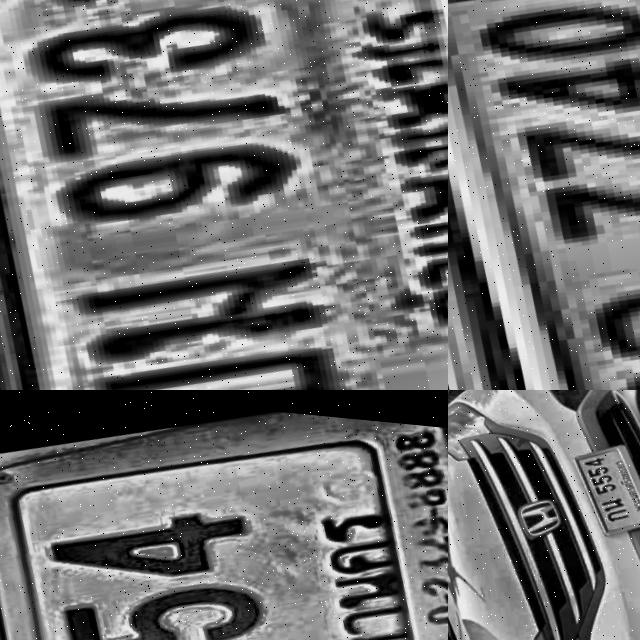license-plate: (0, 0, 448, 390), (0, 390, 448, 640), (448, 0, 640, 390), (567, 425, 640, 539)
